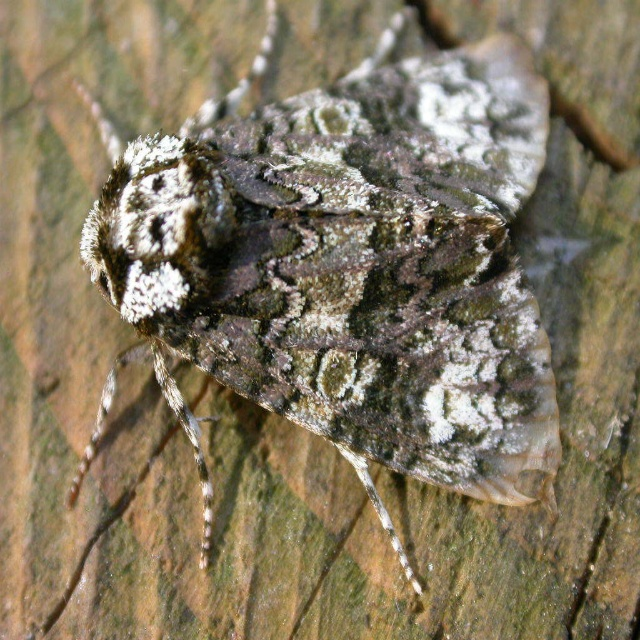Moths and butterflies: (65, 0, 568, 602)
